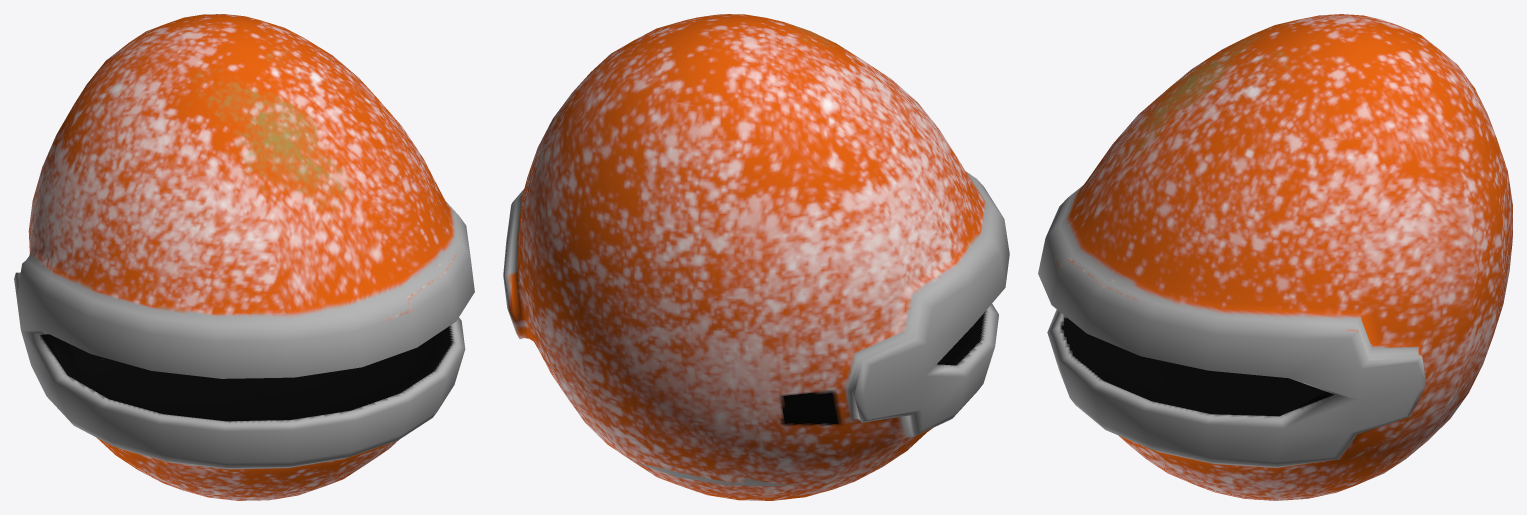
File: p2.1.fixed.fbx
The picture shows the model from 3 angles, left to right: view 1: azimuth 30°, elevation 25°; view 2: azimuth 150°, elevation 25°; view 3: azimuth 270°, elevation 25°; orthographic projection. The views are drawn at different scales.
Parts seen in each view (by area): view 1: pCylinder3.001; view 2: pCylinder3.001; view 3: pCylinder3.001.
Boxes of the visible parts, x1,y1,x2,y2 form: pCylinder3.001: (14, 14, 474, 500); pCylinder3.001: (503, 14, 1009, 500); pCylinder3.001: (1038, 14, 1512, 500).
Size of the model in its own units: 17.53 by 17.96 by 17.13.
